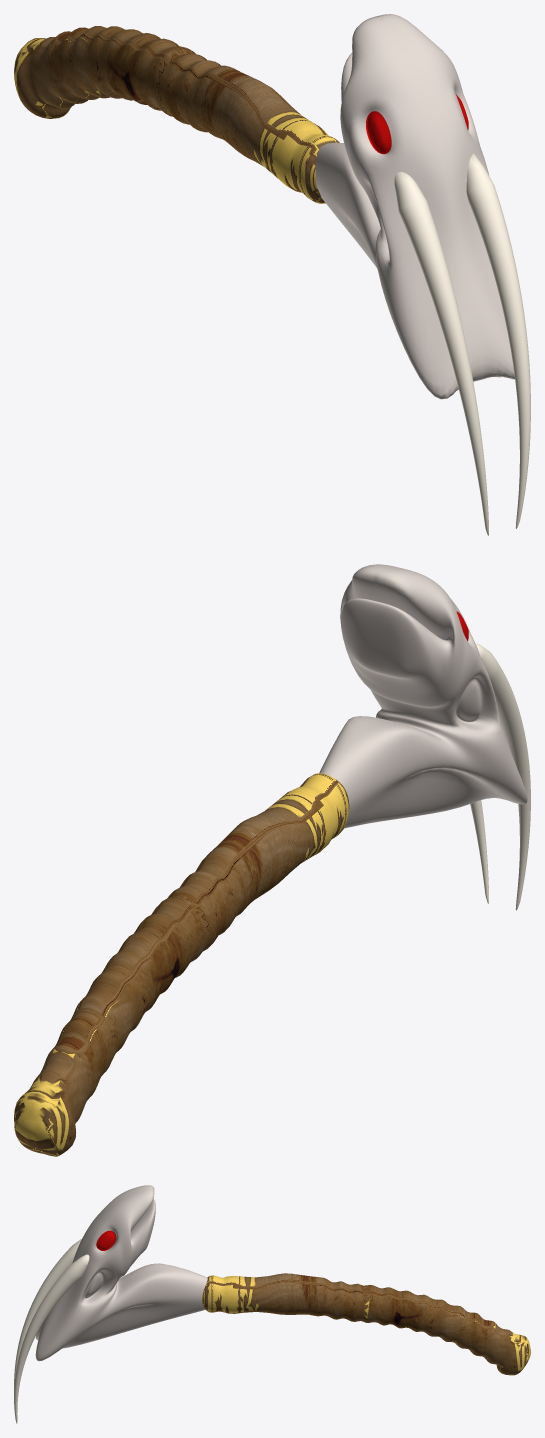
File: Mace_of_the_beast.fbx
3 renders of one model, top to bottom at view 1: azimuth 30°, elevation 25°; view 2: azimuth 150°, elevation 25°; view 3: azimuth 270°, elevation 25°, orthographic. The views are drawn at different scales.
Parts seen in each view (by area): view 1: mace_of_the_beast; view 2: mace_of_the_beast; view 3: mace_of_the_beast.
Part boxes in pixels (x1=…): mace_of_the_beast: x1=14, y1=14, x2=530, y2=535; mace_of_the_beast: x1=14, y1=564, x2=530, y2=1156; mace_of_the_beast: x1=14, y1=1185, x2=530, y2=1423.
Size of the model in its own units: 7.29 by 25.02 by 50.58.
